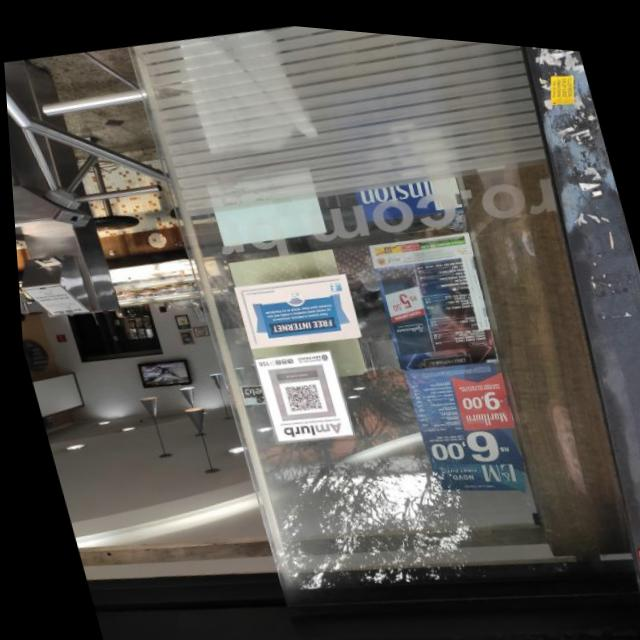qrcode: (280, 376, 316, 409)
